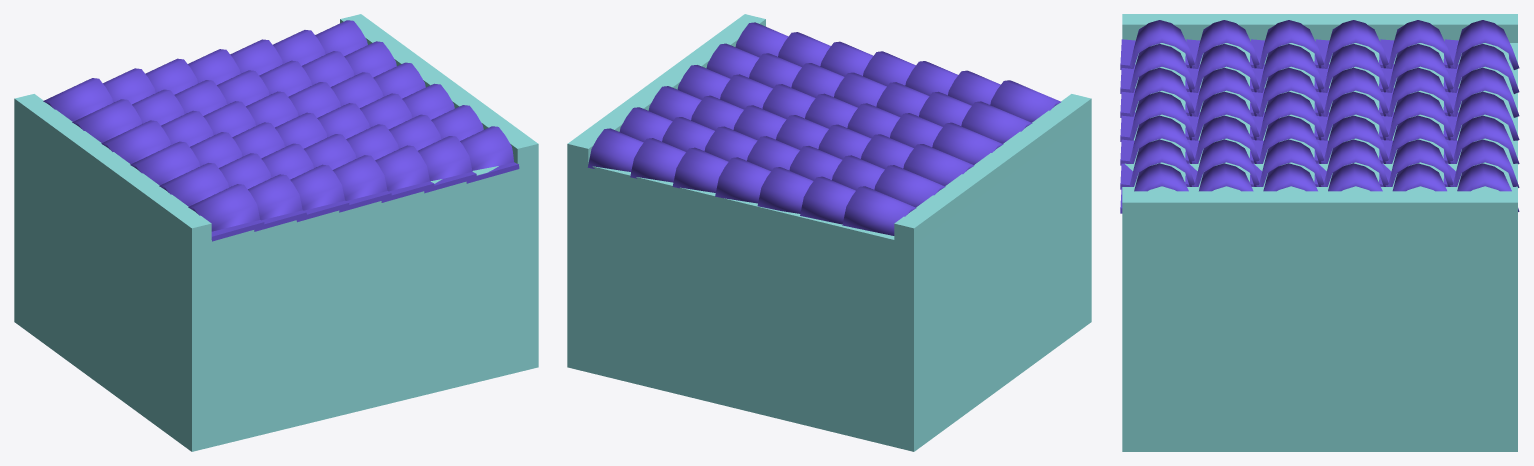
Rendered from TejadoPlano2.fbx.
3 renders of one model, left to right at view 1: azimuth 30°, elevation 25°; view 2: azimuth 150°, elevation 25°; view 3: azimuth 270°, elevation 25°, orthographic. The views are drawn at different scales.
Visible parts, largest first — view 1: Pared_Base.010, Tejado.004; view 2: Pared_Base.010, Tejado.004; view 3: Pared_Base.010, Tejado.004.
Part boxes in pixels (<box>): Pared_Base.010: <box>14,14,538,451</box>; Tejado.004: <box>43,20,519,241</box>; Pared_Base.010: <box>567,14,1091,451</box>; Tejado.004: <box>587,22,1060,235</box>; Pared_Base.010: <box>1122,14,1517,451</box>; Tejado.004: <box>1120,20,1519,213</box>.
Bounding box in the file's own units: 432 × 283 × 386.
